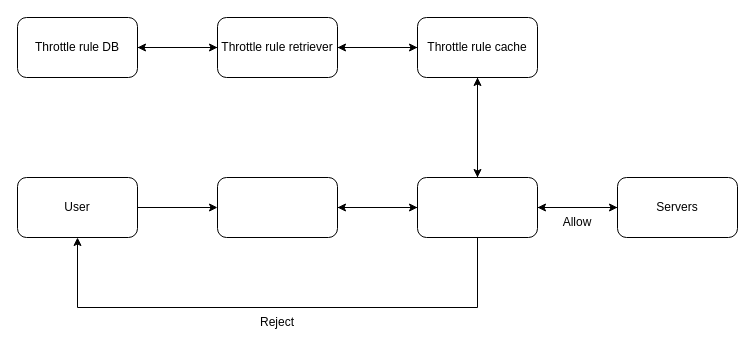
Some shapes in this 755 by 355 pixel diagram are drawn without their labels. Here are the shapes that lost their labels. From the top down, the centre of each, then its label:
(277,207): Client identifier builder
(477,207): Decision maker
